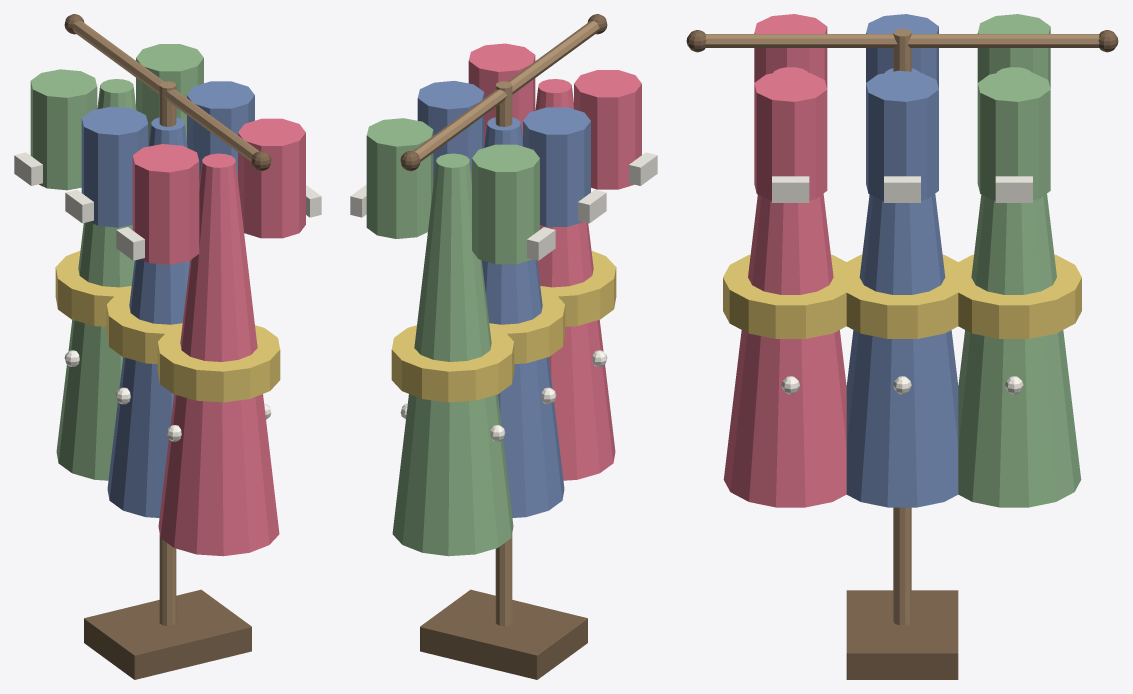
Rendered from kimono_rack.glb.
3 views of the same model, side by side, from view 1: azimuth 30°, elevation 25°; view 2: azimuth 150°, elevation 25°; view 3: azimuth 270°, elevation 25° (orthographic). The views are drawn at different scales.
Visible parts, largest first — view 1: kimono_rack; view 2: kimono_rack; view 3: kimono_rack.
Boxes of the visible parts, x1=… form: kimono_rack: x1=14, y1=14, x2=321, y2=679; kimono_rack: x1=350, y1=14, x2=657, y2=679; kimono_rack: x1=686, y1=14, x2=1118, y2=679.
Size of the model in its own units: 0.64 by 1.83 by 1.16.
